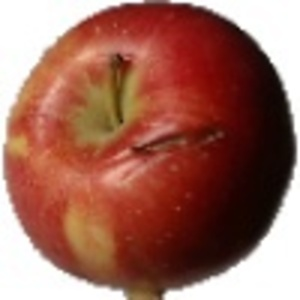maçã braeburn: (1, 1, 300, 291)
